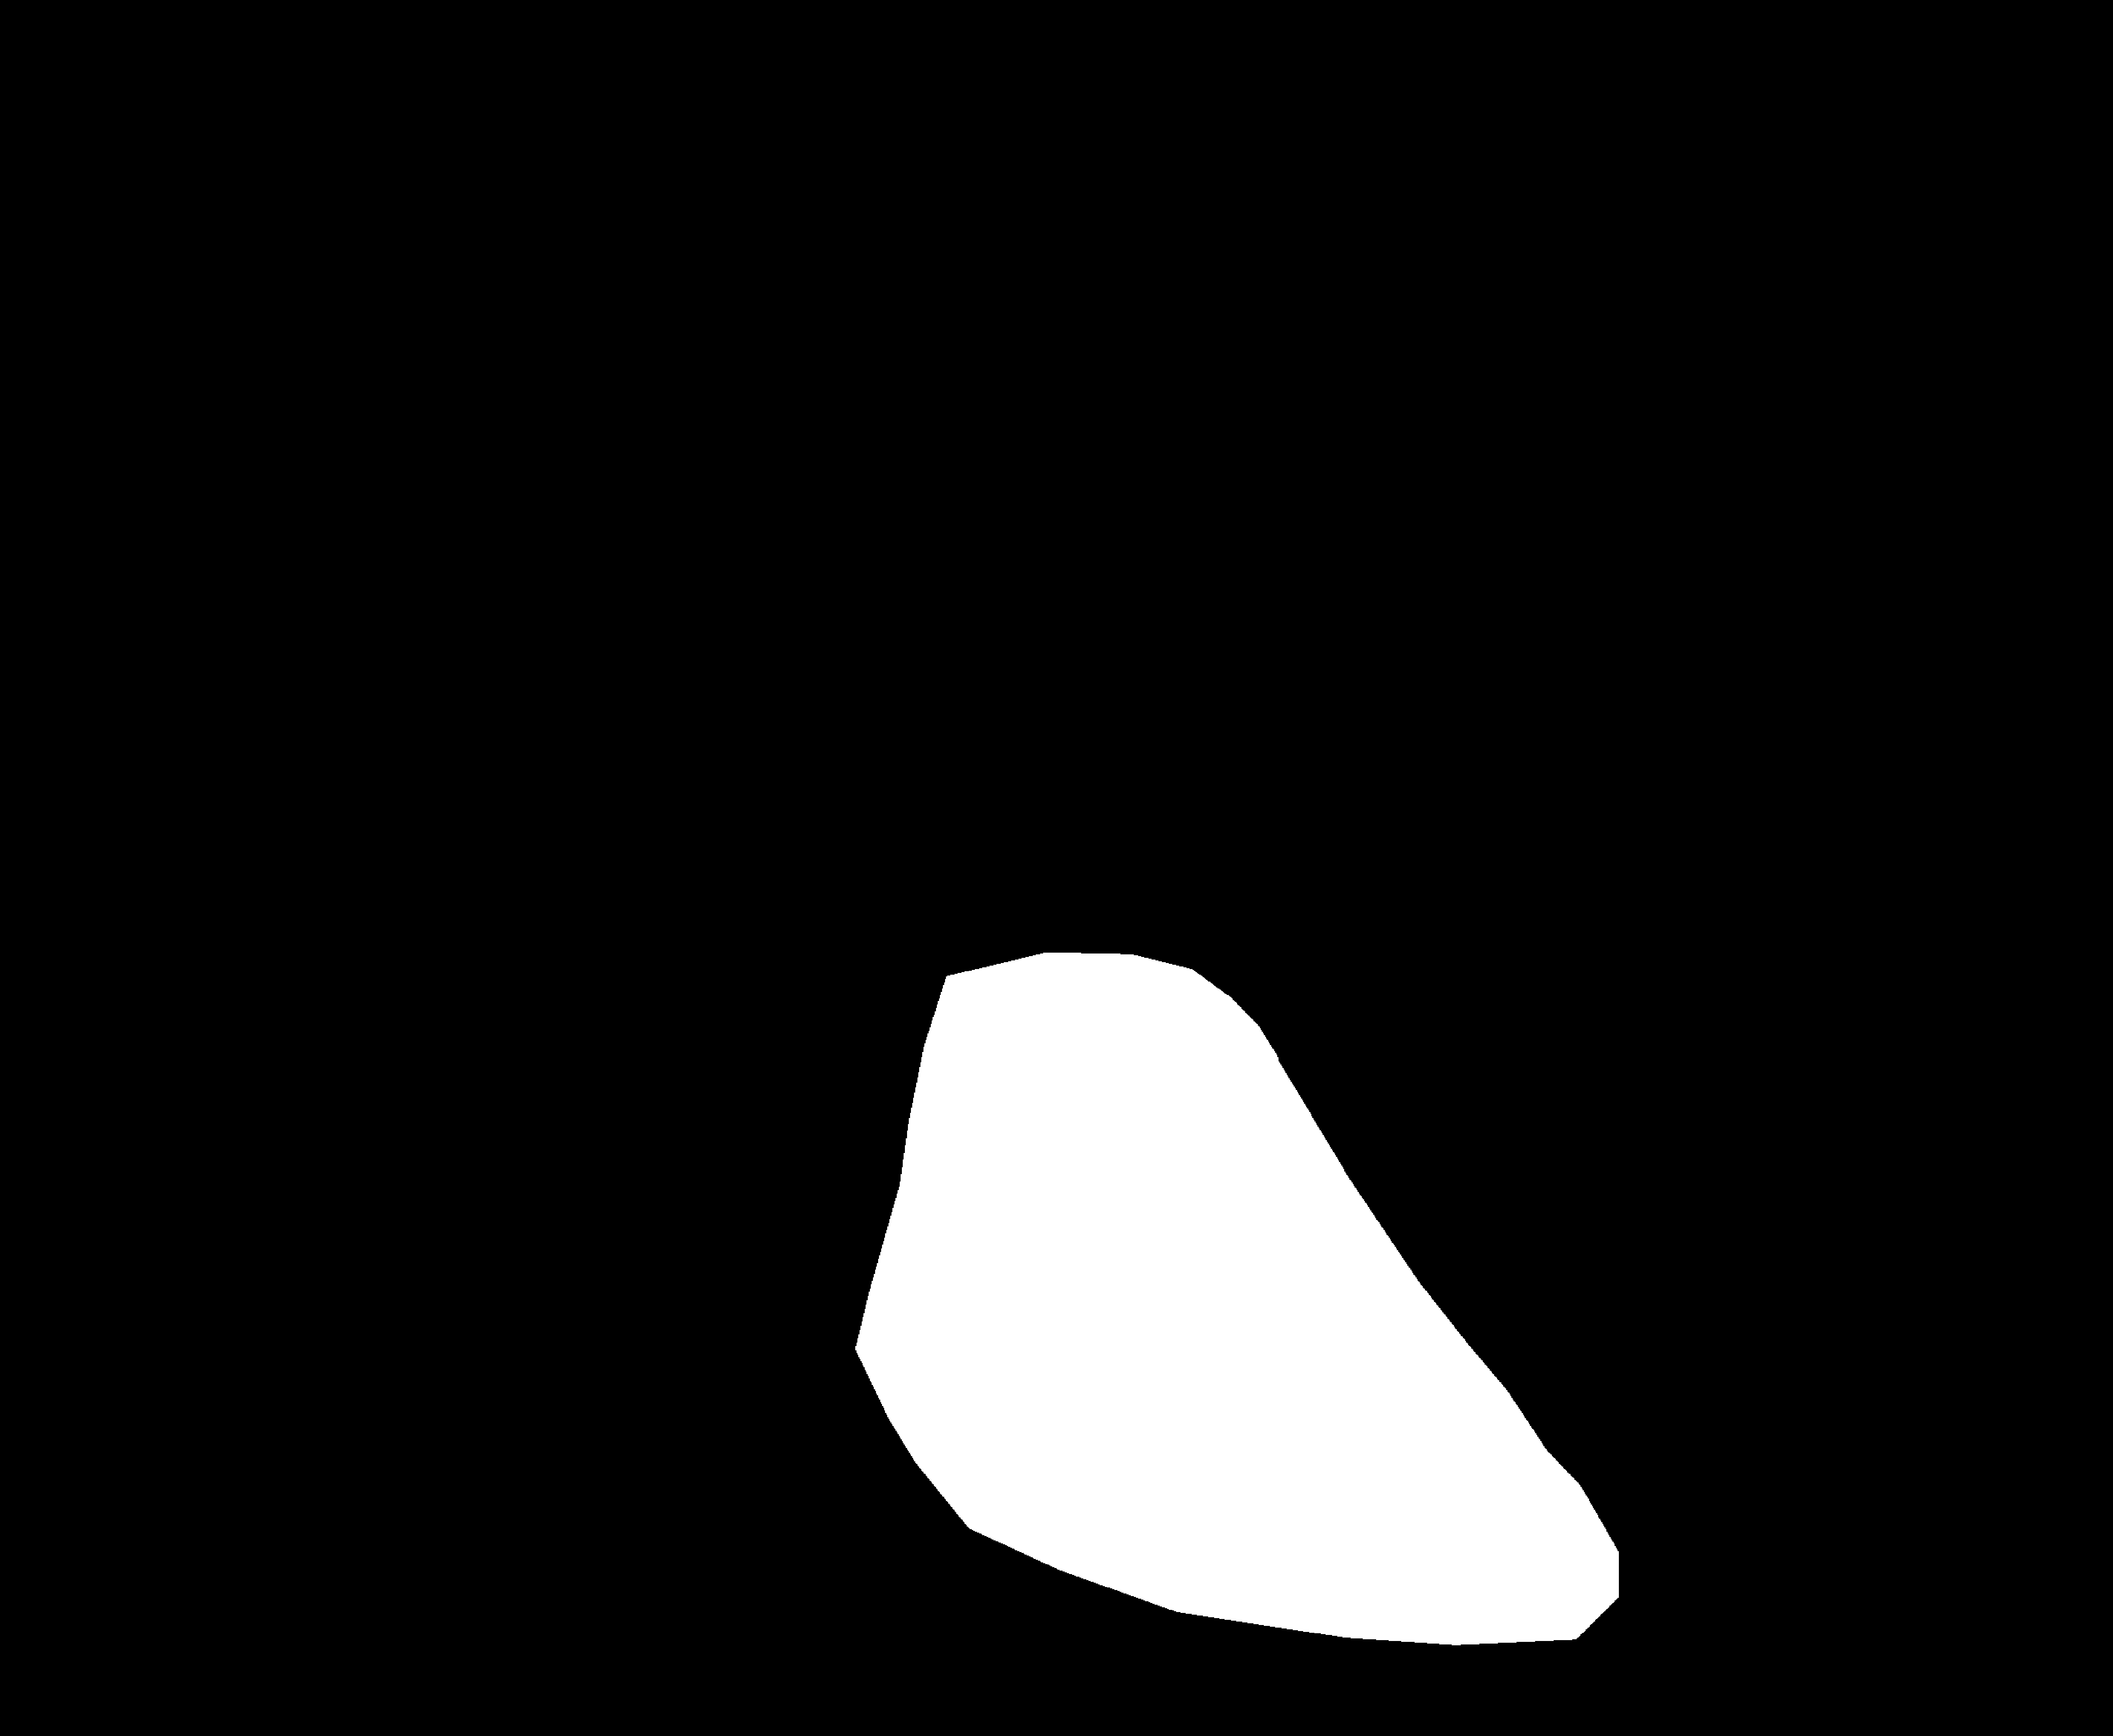heart: (858, 1180, 1632, 1650)
left_lung: (260, 281, 1016, 1697)
right_lung: (1139, 251, 1878, 1715)
